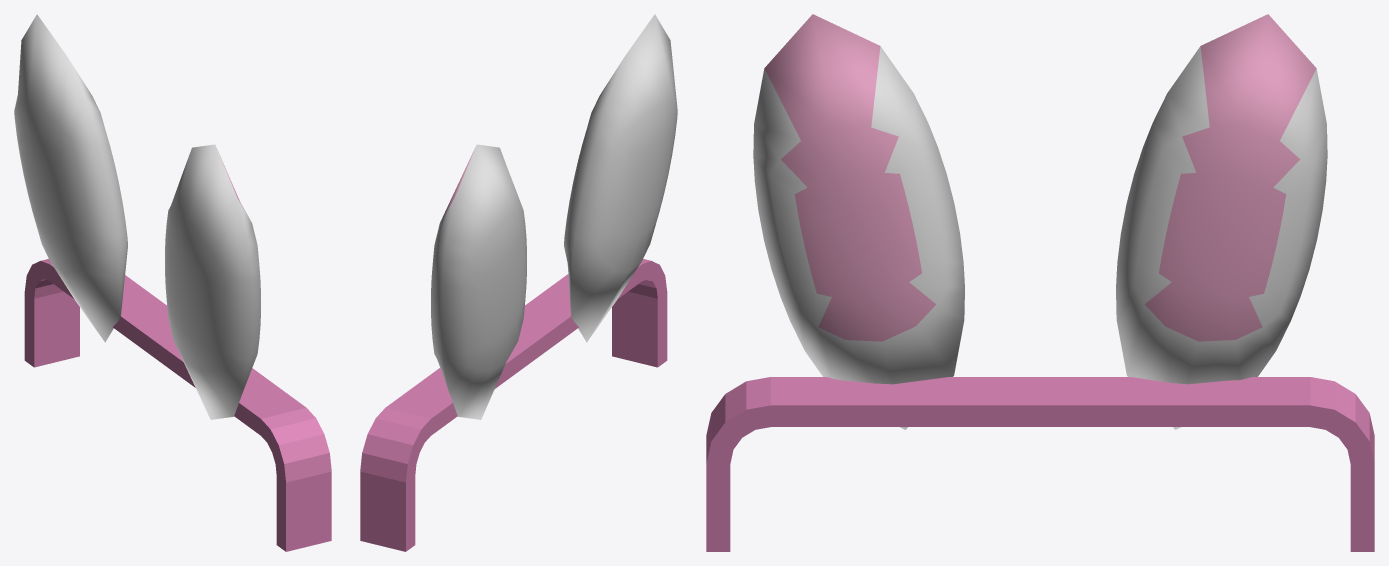
The model's file is bunny.glb.
3 renders of one model, left to right at view 1: azimuth 30°, elevation 25°; view 2: azimuth 150°, elevation 25°; view 3: azimuth 270°, elevation 25°, orthographic. The views are drawn at different scales.
Visible parts, largest first — view 1: Ears, Band; view 2: Ears, Band; view 3: Ears, Band.
Boxes of the visible parts, bbox=[...] form: Ears: bbox=[14, 14, 260, 419]; Band: bbox=[24, 259, 331, 551]; Ears: bbox=[431, 14, 677, 419]; Band: bbox=[360, 259, 667, 551]; Ears: bbox=[753, 14, 1327, 429]; Band: bbox=[706, 377, 1374, 551].
Size of the model in its own units: 0.0918 by 0.3618 by 0.446.
